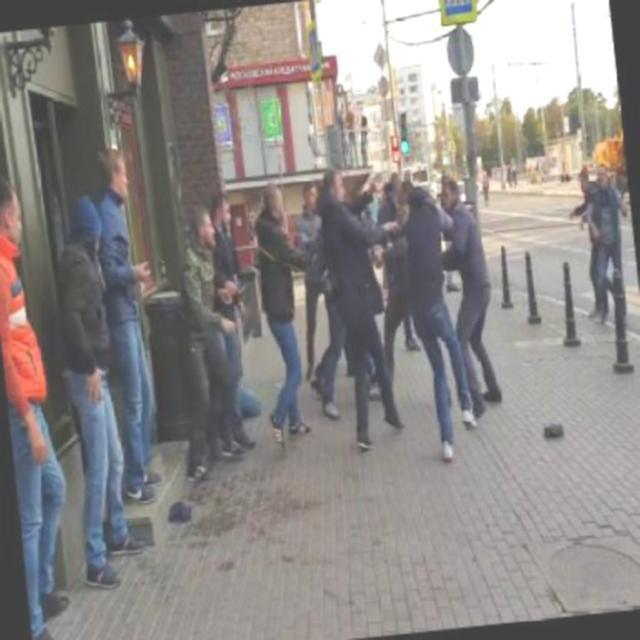fight: (314, 153, 474, 450)
non-fight: (0, 164, 88, 638), (46, 188, 146, 592), (173, 205, 242, 472), (248, 176, 314, 453)
